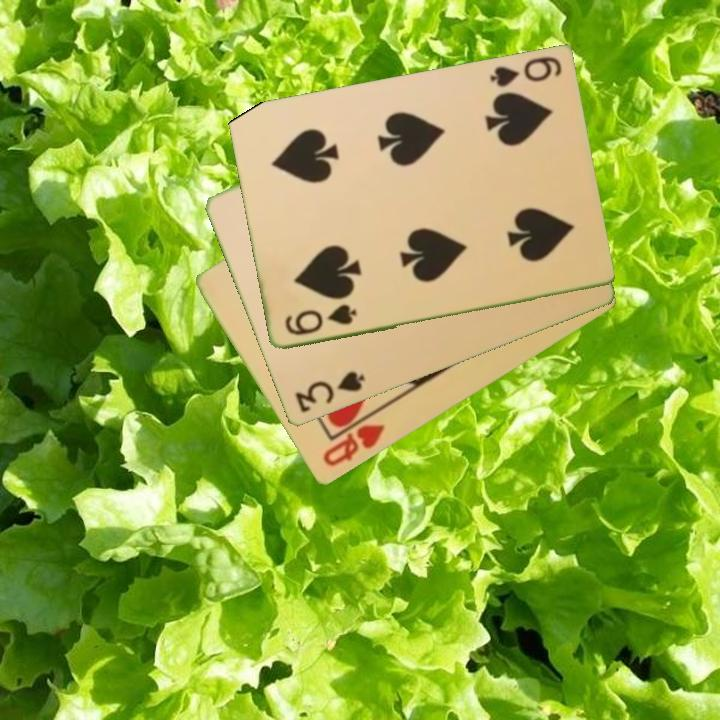3s: (291, 368, 368, 416)
6s: (485, 53, 565, 91), (281, 301, 359, 339)
Qh: (319, 421, 388, 471)
